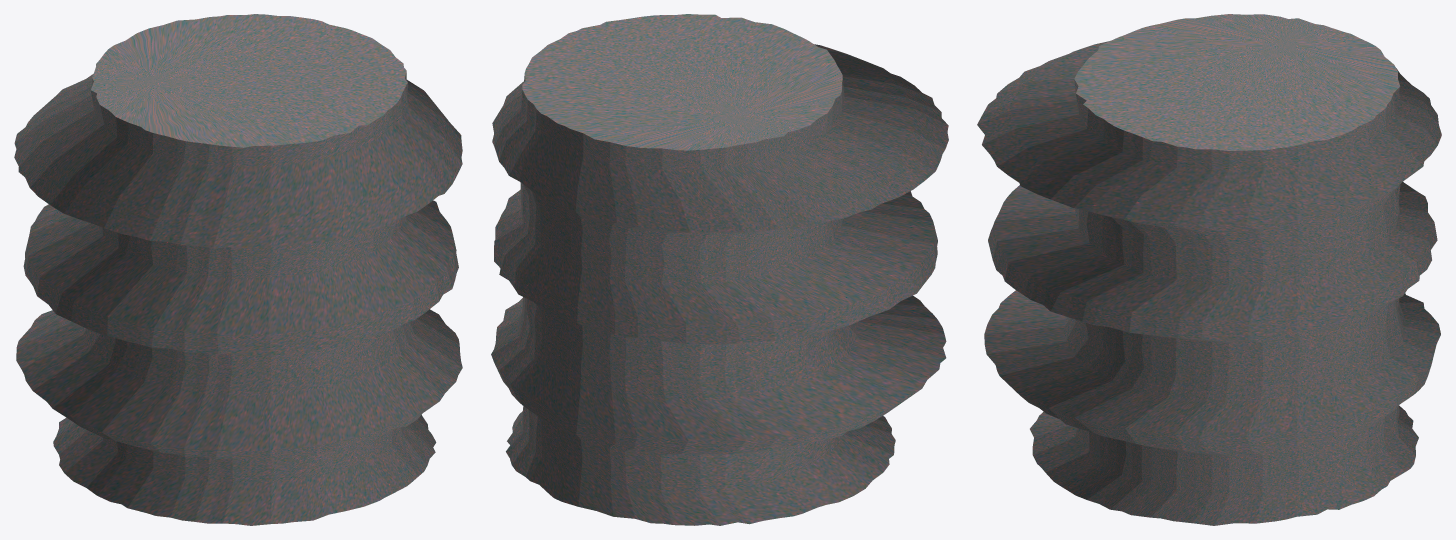
The model's file is barrel_1.dae.
3 views of the same model, side by side, from view 1: azimuth 30°, elevation 25°; view 2: azimuth 150°, elevation 25°; view 3: azimuth 270°, elevation 25° (orthographic). The views are drawn at different scales.
Parts seen in each view (by area): view 1: Cylinder; view 2: Cylinder; view 3: Cylinder.
Part boxes in pixels (x1,y1,x2,y2): Cylinder: (14,14,462,525); Cylinder: (491,14,948,525); Cylinder: (977,14,1441,525).
Size of the model in its own units: 1.14 by 1.15 by 1.
1 material, 1 textured.
